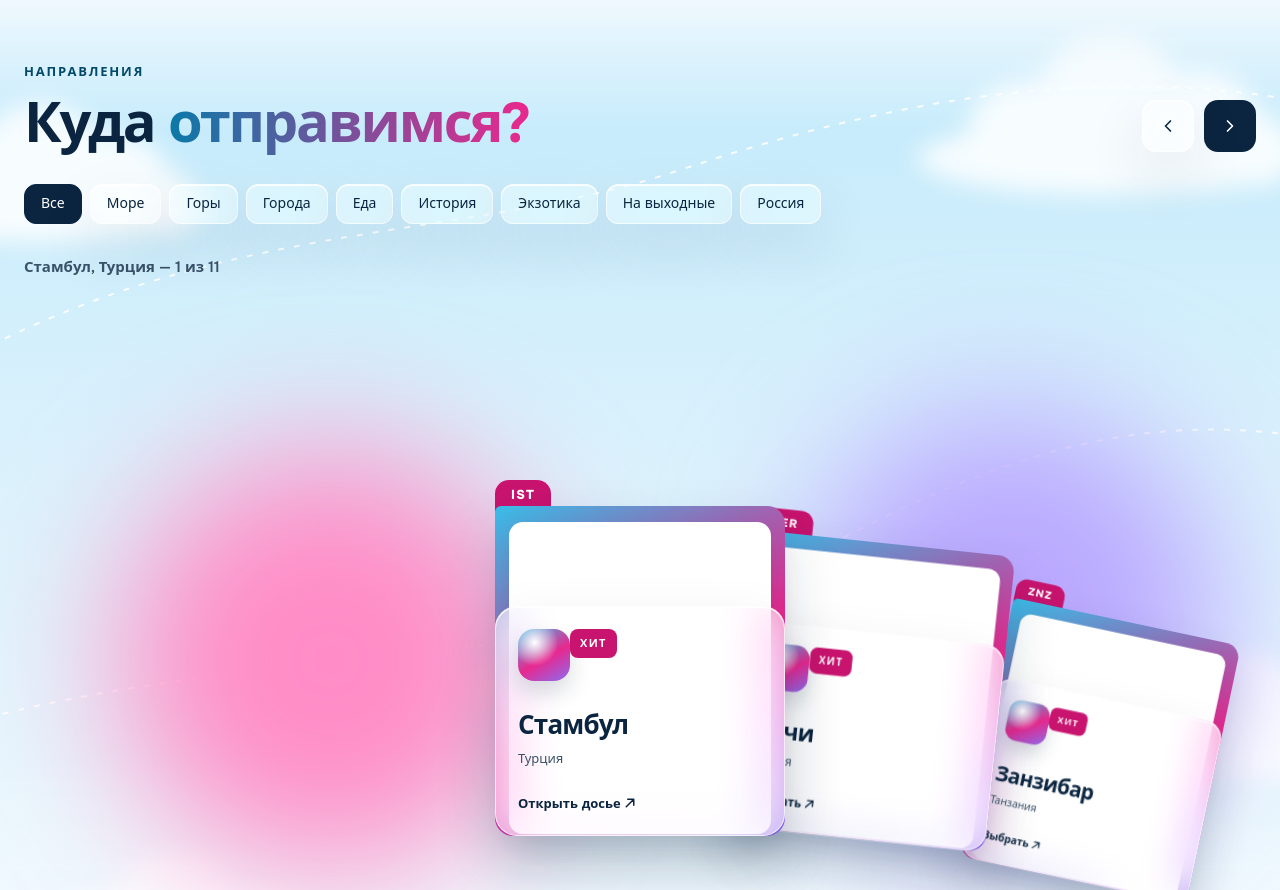
Test: Destinations › renders the first folder as active and arrows switch it
This screenshot has width=1280, height=890.
Expected: the heading "Куда отправимся?" is shown, [24,96,529,152]
Expected: the text "Стамбул, Турция — 1 из 11" is shown, [24,256,220,276]
Click the button named "Следующее направление" at (1230, 126), box [1204,100,1256,152]
(page scrolled)
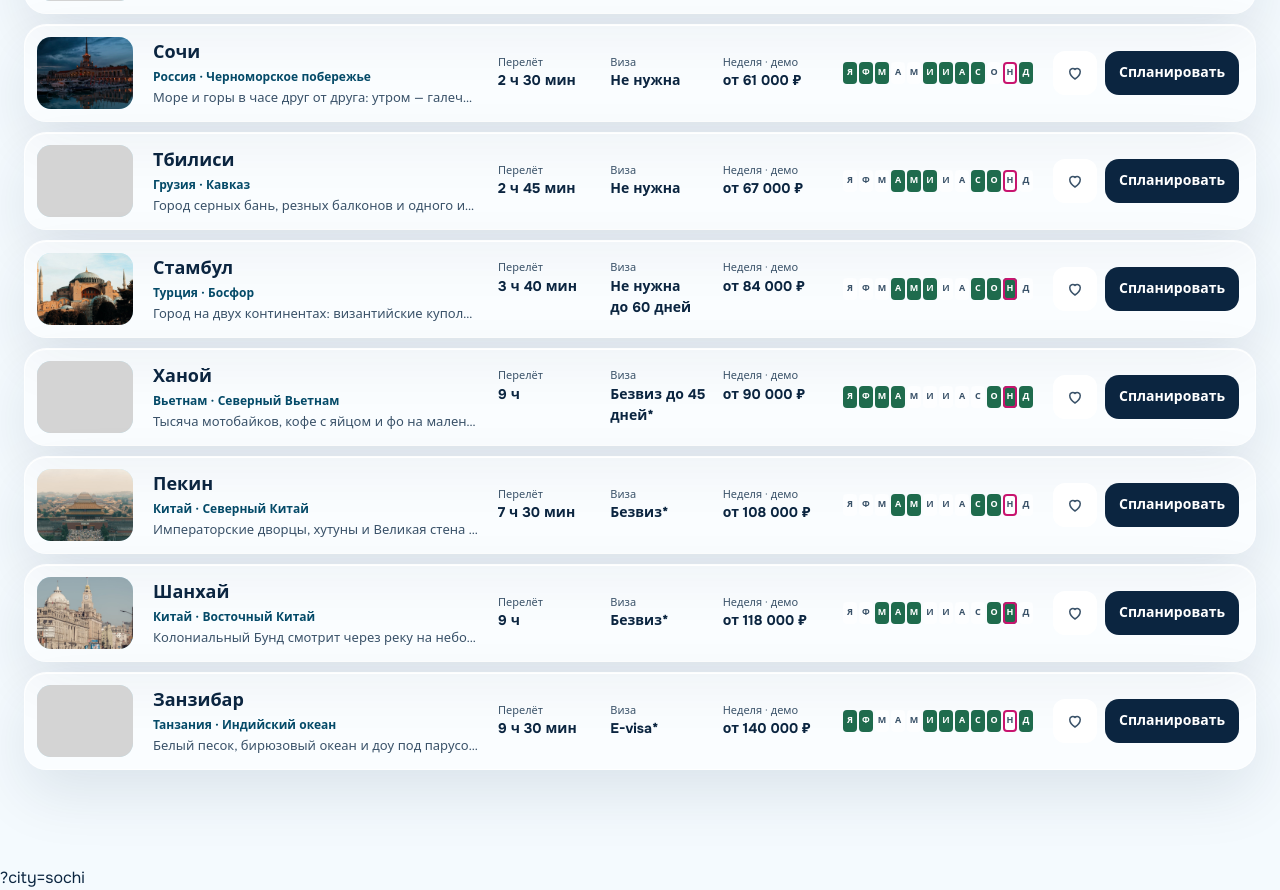
Result: the text with test id "search" reads "?city=sochi" at [0,867,85,888]
